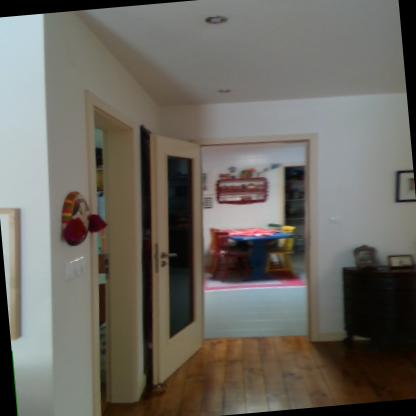open: (145, 112, 350, 366)
